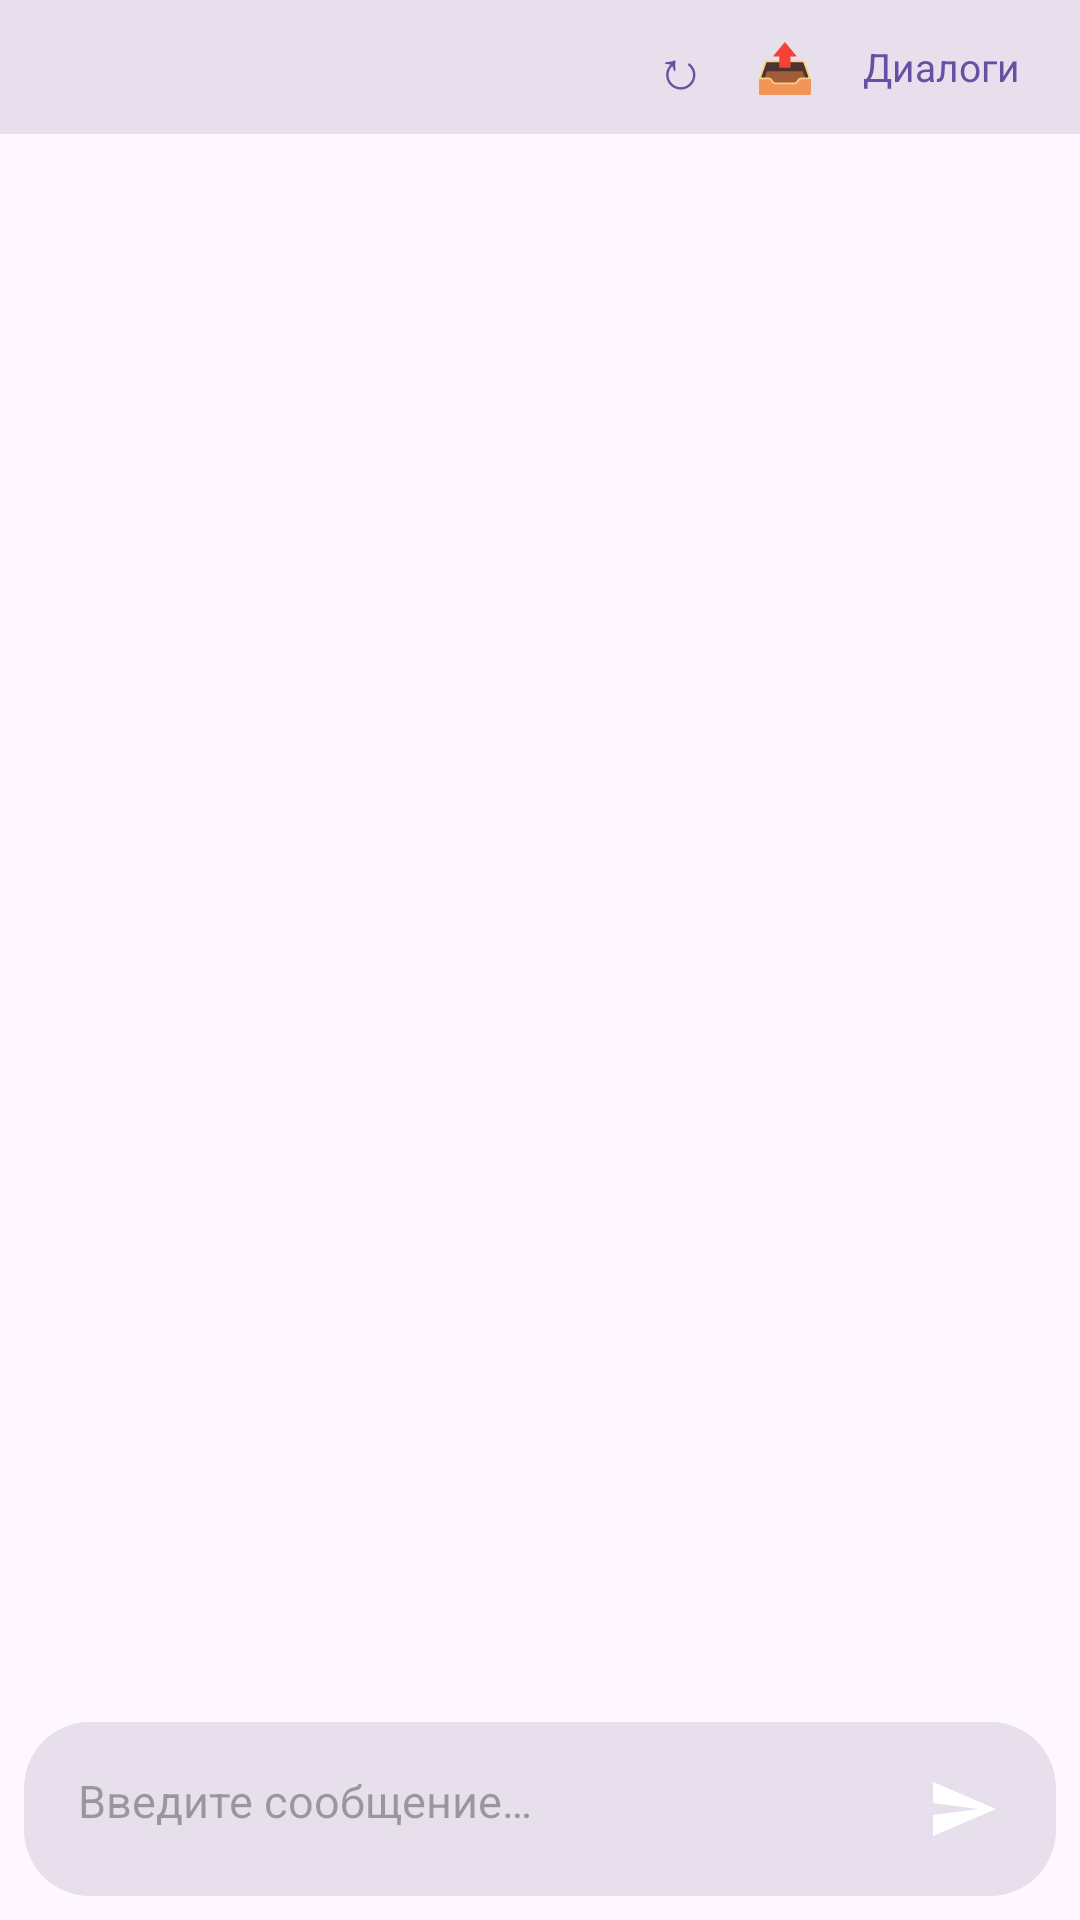

Where icons sit on this 1080px x 1920px app screen, as (x1, y1, x2, y2):
Отправить: (933, 1783, 994, 1836)
